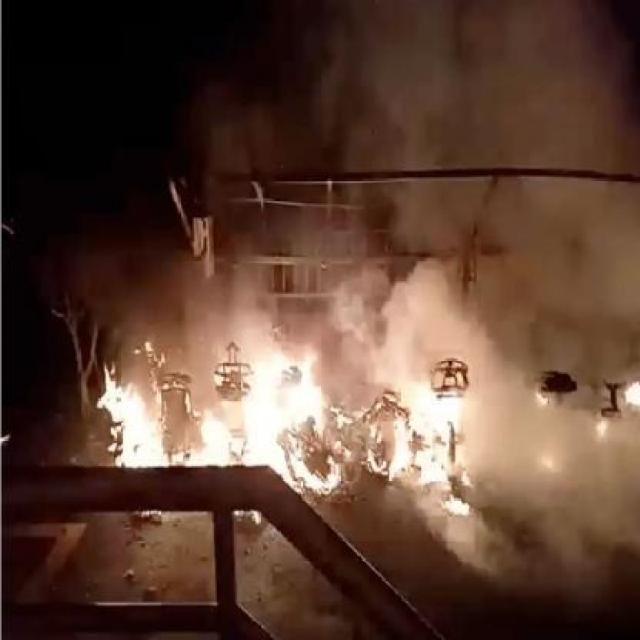Fire: (244, 332, 340, 488), (101, 366, 160, 468), (396, 382, 462, 472), (194, 402, 232, 466), (621, 379, 640, 415), (440, 494, 471, 514), (593, 416, 610, 438), (532, 388, 550, 408), (541, 454, 561, 468)
Smoke: (364, 13, 633, 372), (338, 267, 498, 395), (160, 266, 282, 394)
